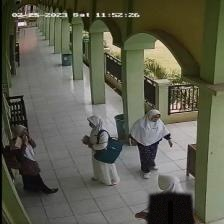Cadar_Niqab: (147, 172, 194, 224)
